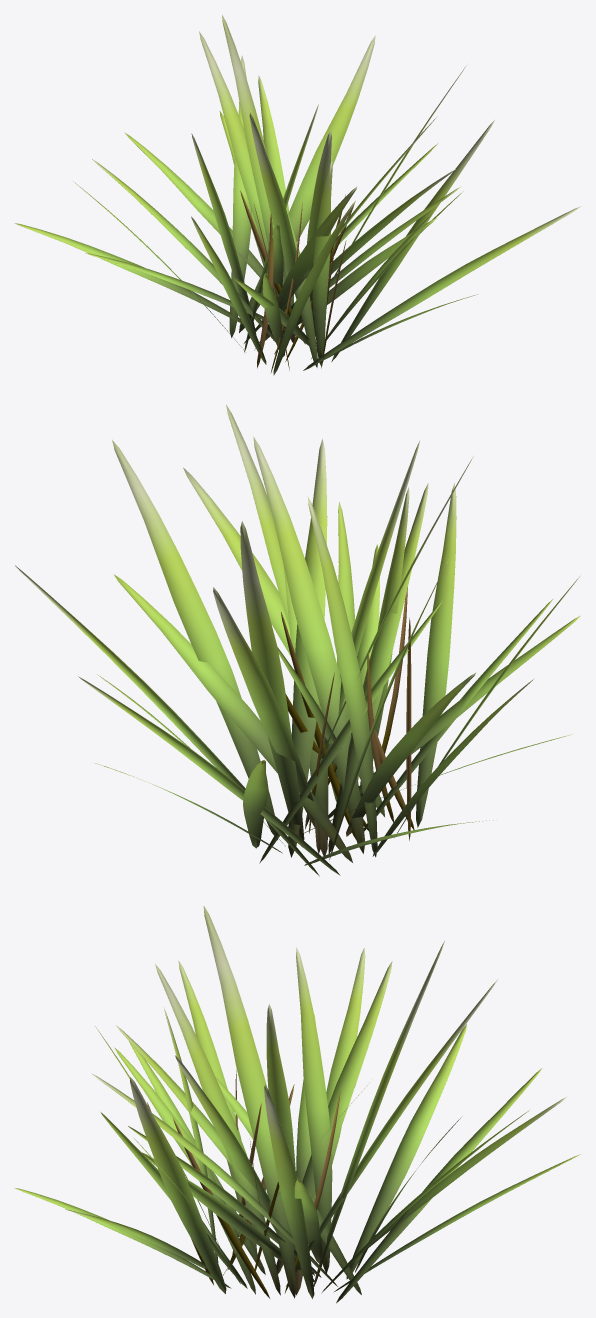
The model's file is osoka-aloesowata-13.obj.
3 renders of one model, top to bottom at view 1: azimuth 30°, elevation 25°; view 2: azimuth 150°, elevation 25°; view 3: azimuth 270°, elevation 25°, orthographic. The views are drawn at different scales.
Parts seen in each view (by area): view 1: Stratiotes-aloides1.008; view 2: Stratiotes-aloides1.008; view 3: Stratiotes-aloides1.008.
Boxes of the visible parts, box(x1,y1,x2,y2) form: Stratiotes-aloides1.008: box(14, 15, 581, 375); Stratiotes-aloides1.008: box(15, 404, 580, 876); Stratiotes-aloides1.008: box(15, 906, 580, 1303).
Bounding box in the file's own units: 0.3583 × 0.2449 × 0.3651.
1 material, 1 textured.
